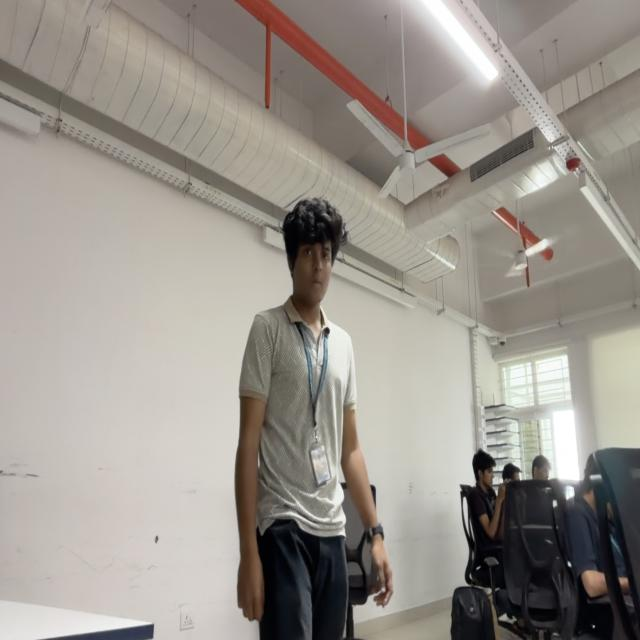kshitij: (282, 197, 348, 305)
